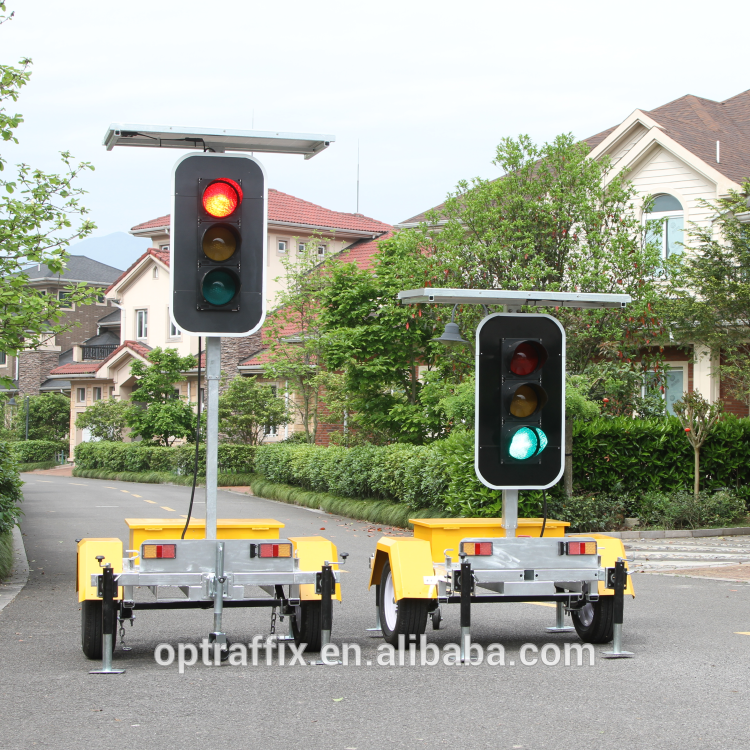go: (476, 314, 565, 490)
stop: (173, 153, 268, 334)
